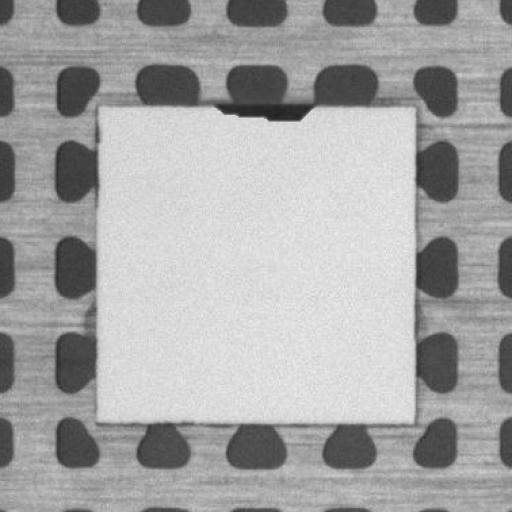DIE_BROKEN: (210, 96, 322, 123)
